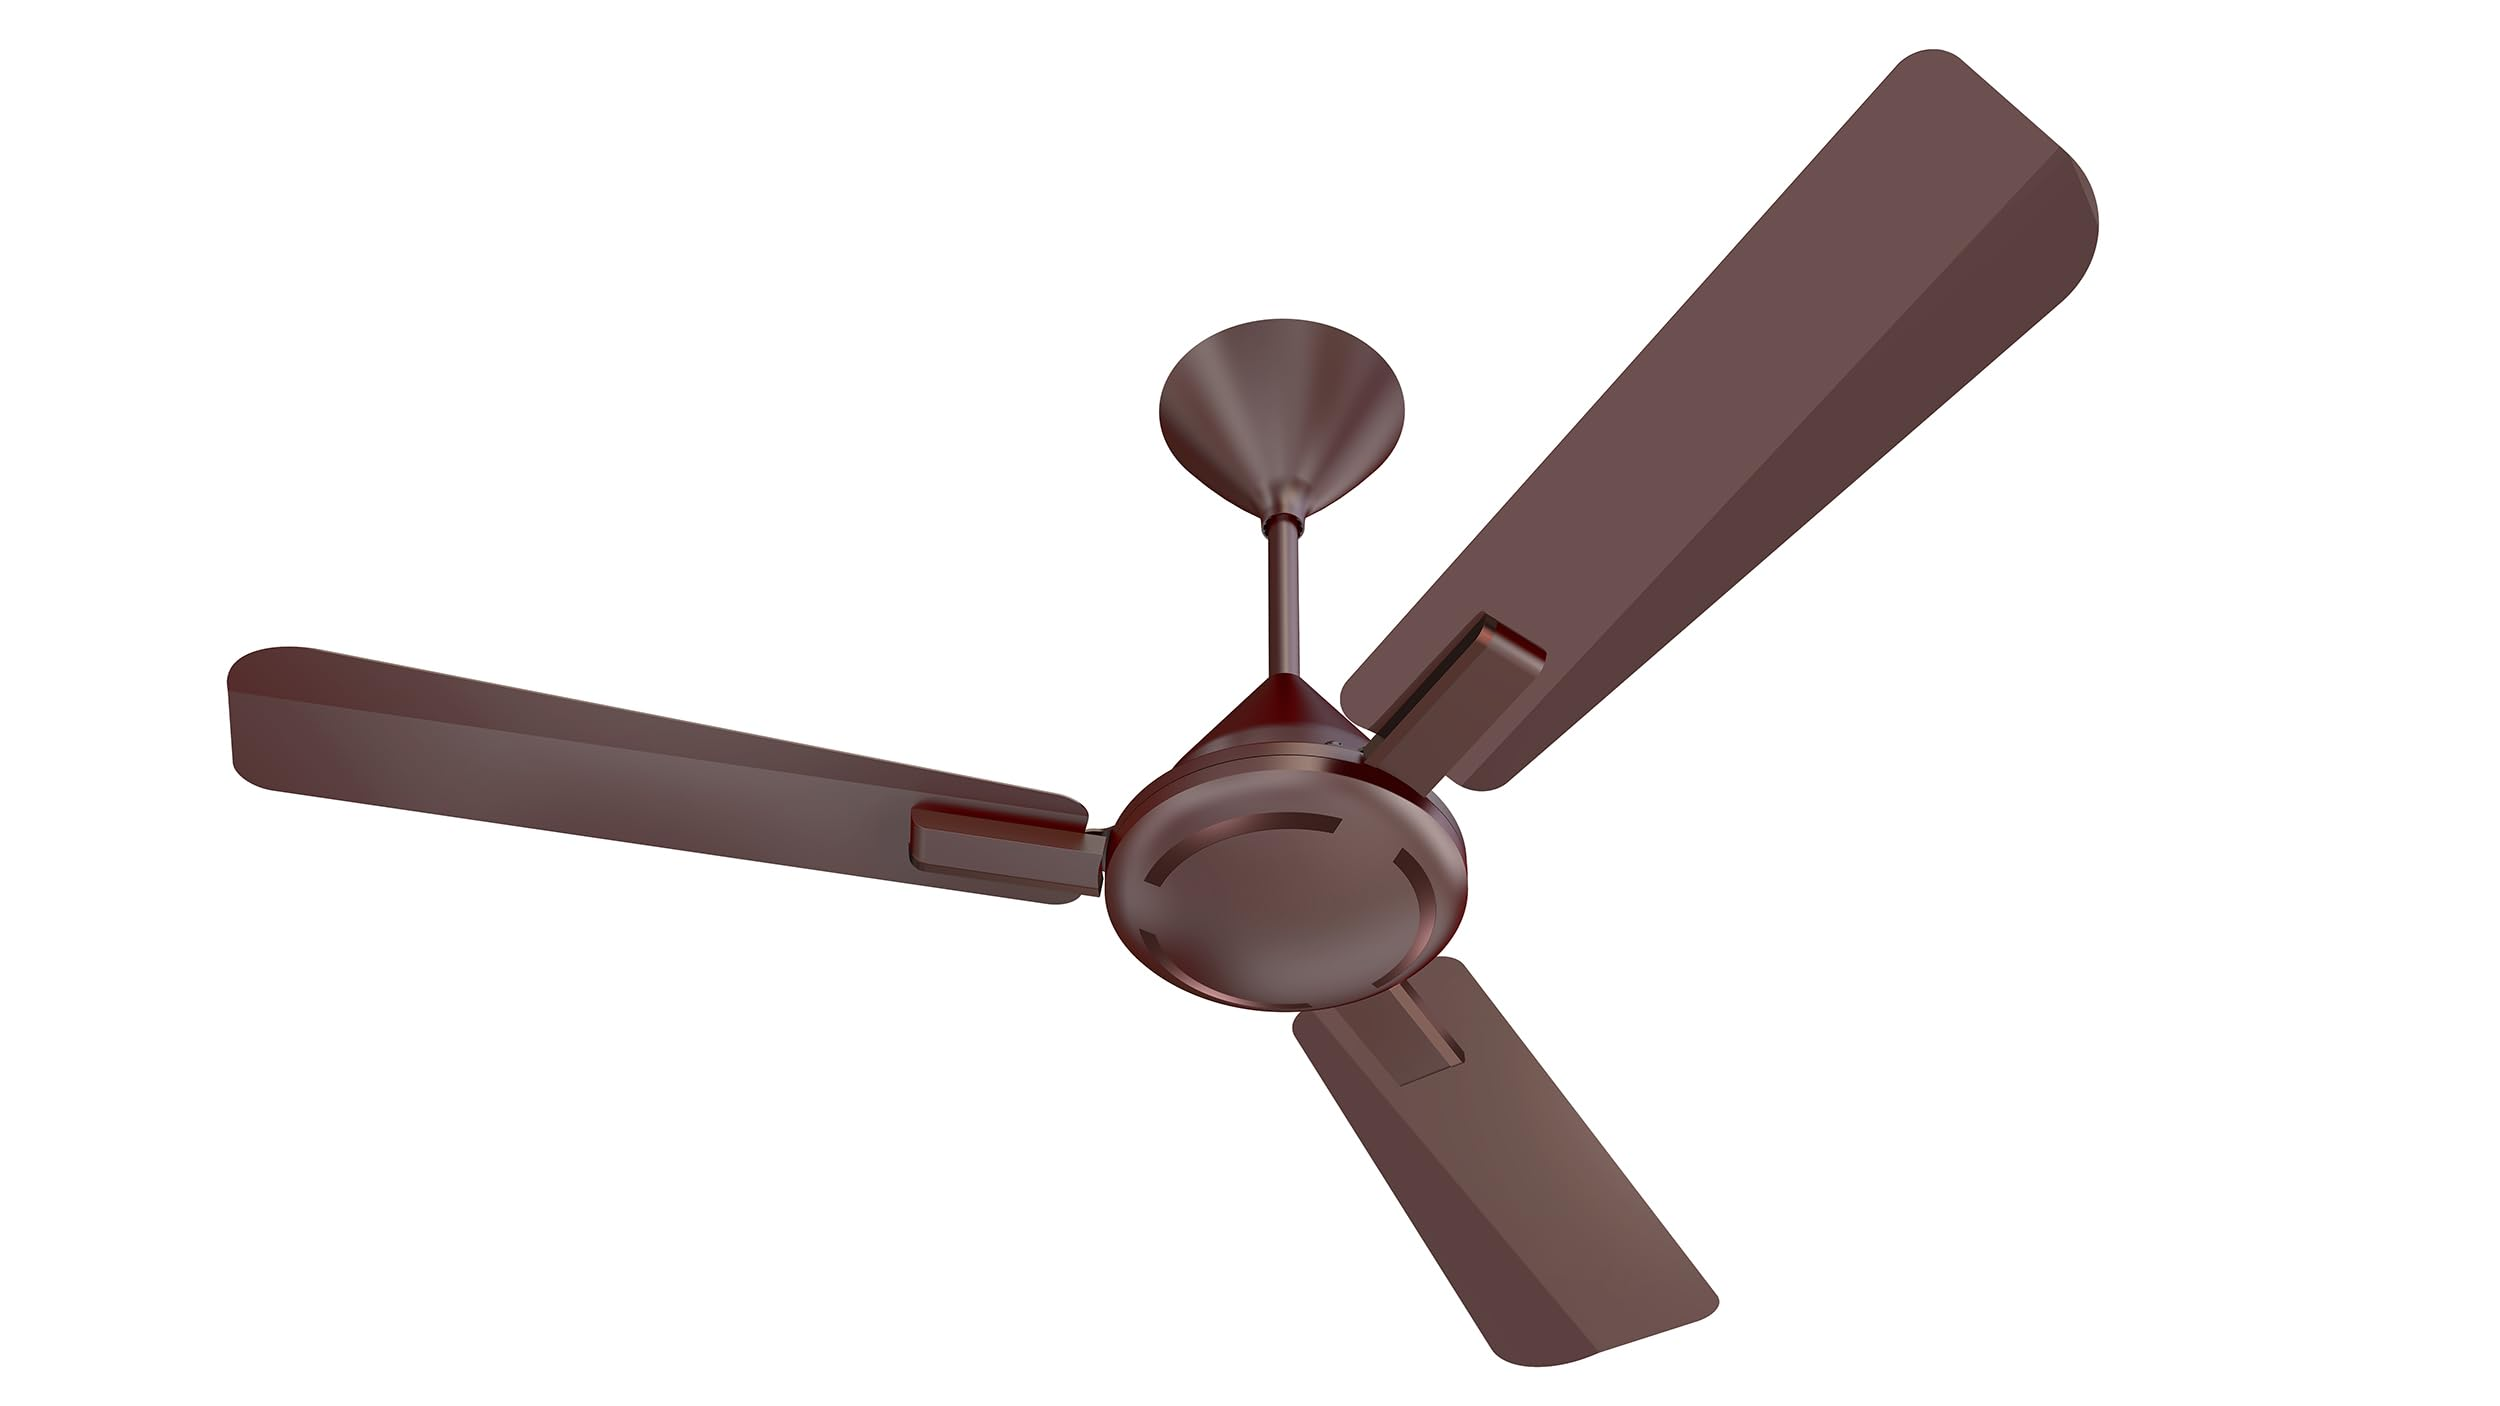Fan: (230, 52, 2103, 1372)
